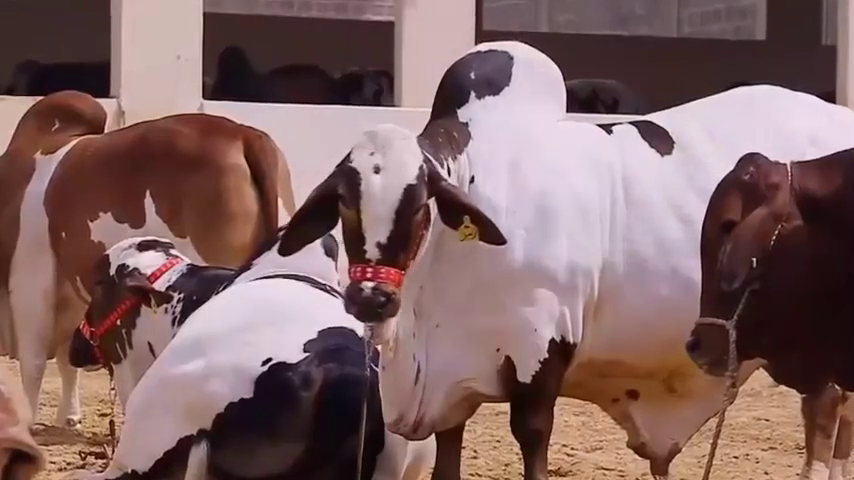bo: (234, 36, 854, 480), (57, 215, 462, 479), (1, 86, 289, 431), (677, 134, 854, 479)
